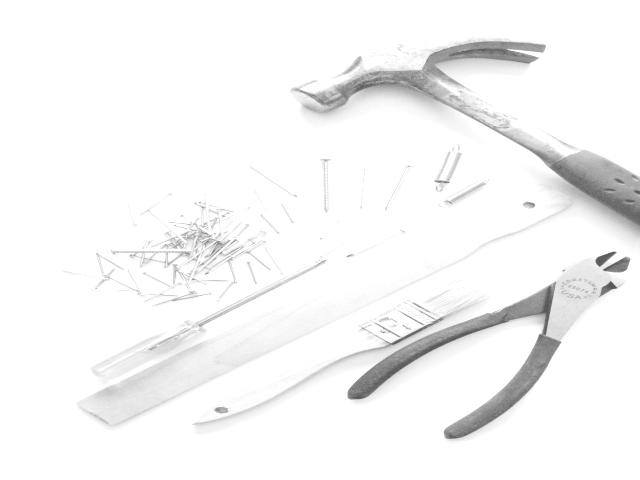Cutting pliers: (348, 252, 634, 439)
Hammer: (291, 37, 640, 222)
Screwdriver: (91, 260, 326, 380)
